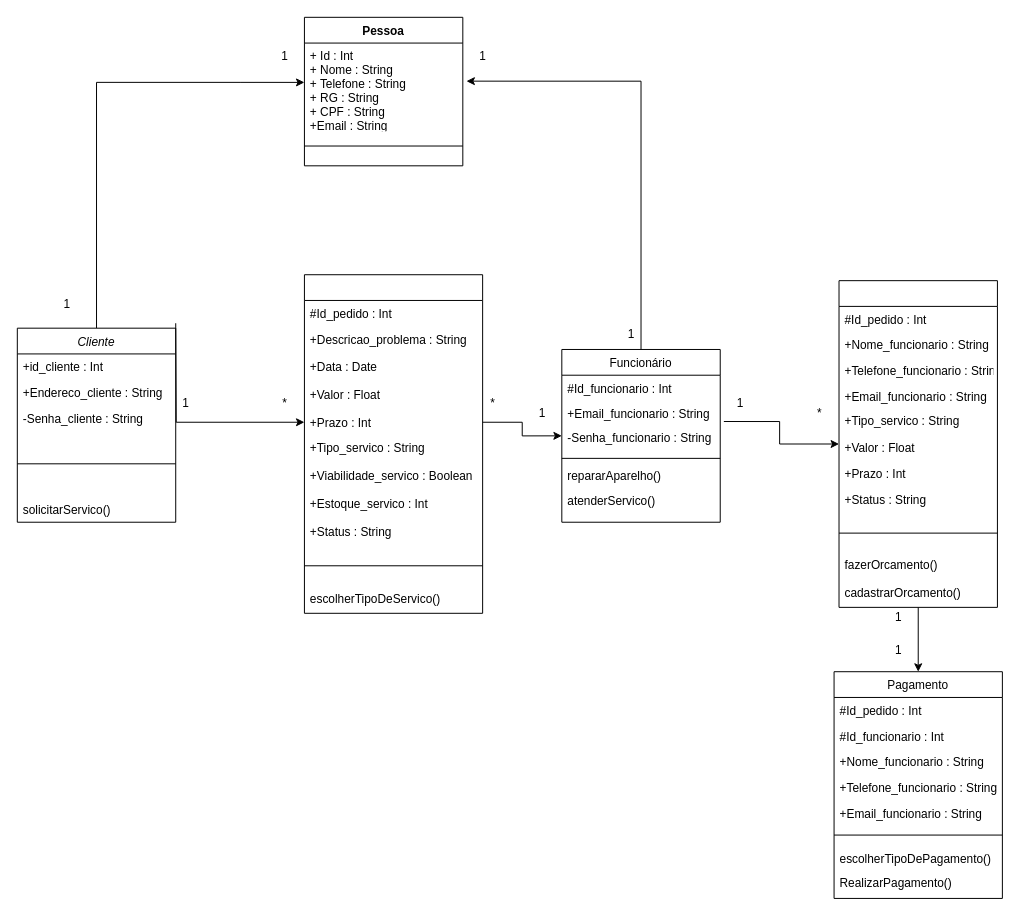
Some shapes in this 1020 by 916 pixel diagram are drawn without their labels. Here are the shapes that lost their labels. From the top down, the box of each, then its label:
(303, 274, 483, 613): Solicitação de serviço
(838, 280, 997, 607): Orçamento
